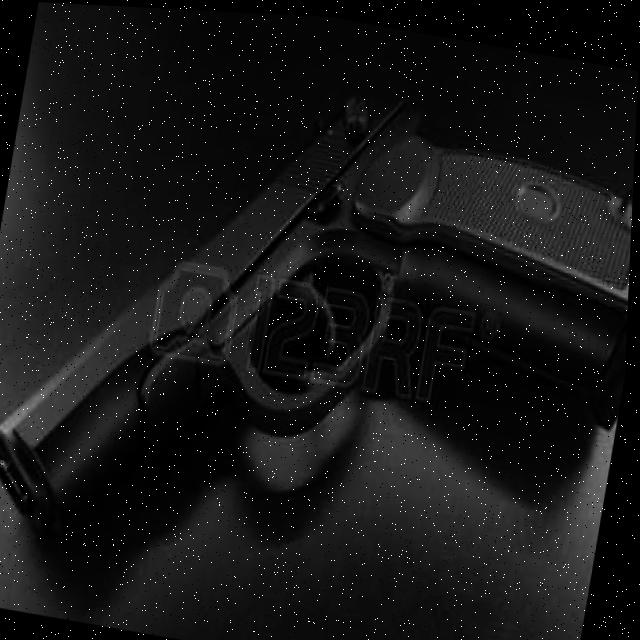pistol: (0, 20, 639, 629)
